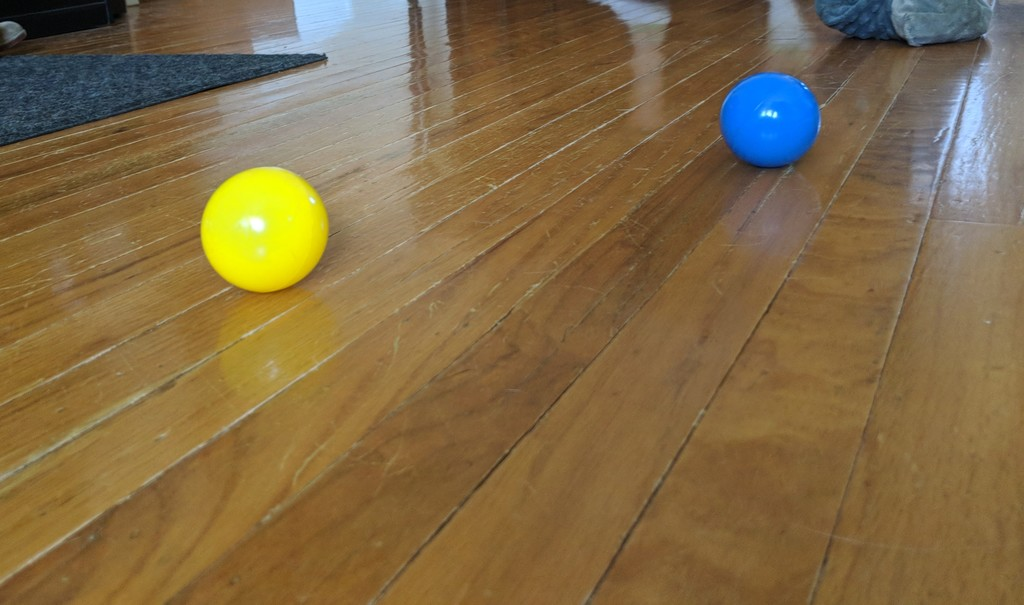ball: (195, 163, 331, 295)
